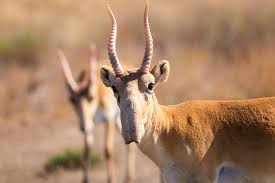saiga: (99, 1, 275, 183)
